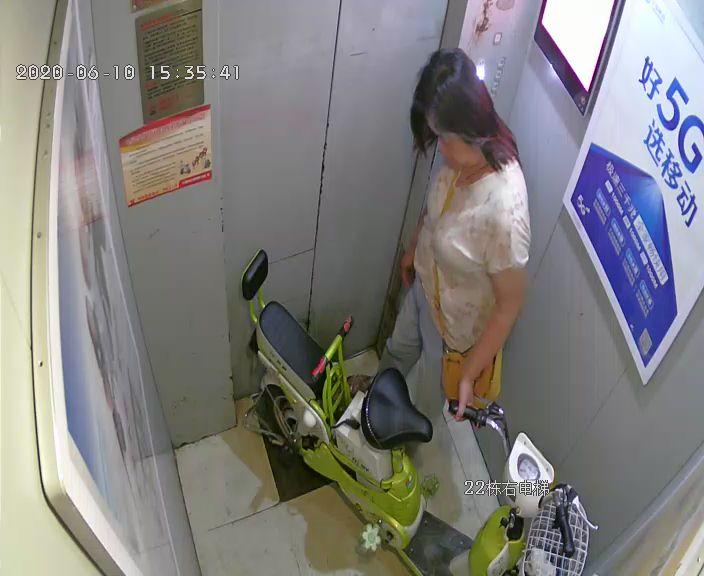Electric-bicycle: (238, 245, 599, 575)
